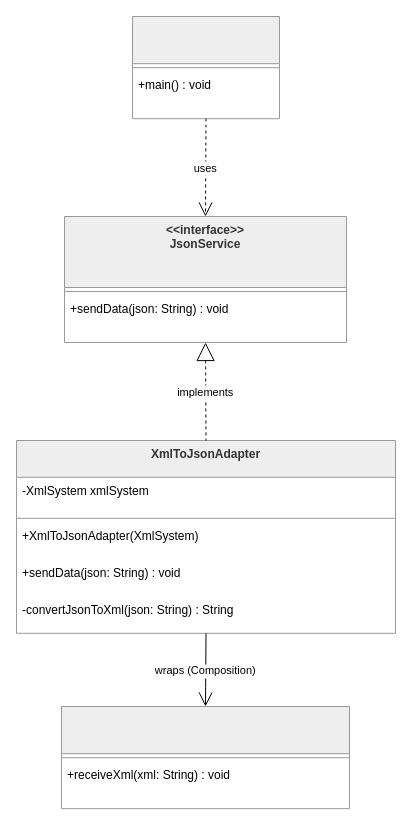
Some shapes in this 412 by 825 pixel diagram are drawn without their labels. The box of each missing label's shape, as (x1, y1, x2, y2) in pixels:
Client: (132, 16, 280, 119)
XmlSystem: (60, 706, 350, 809)
